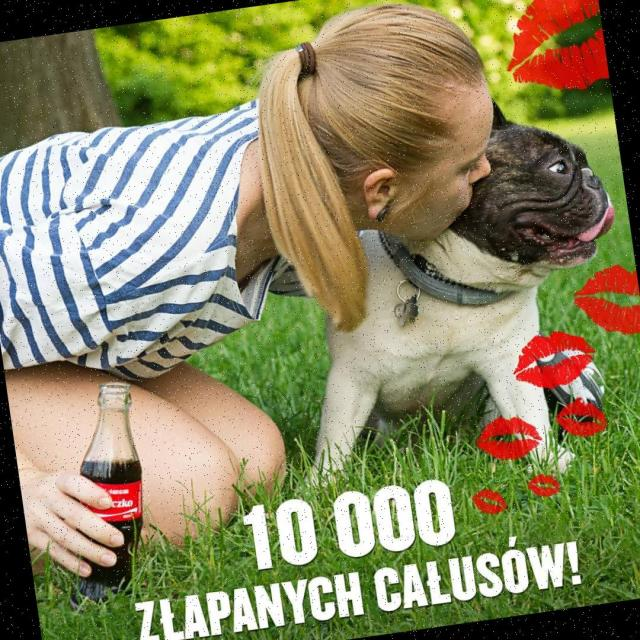coca-cola: (38, 376, 164, 616)
